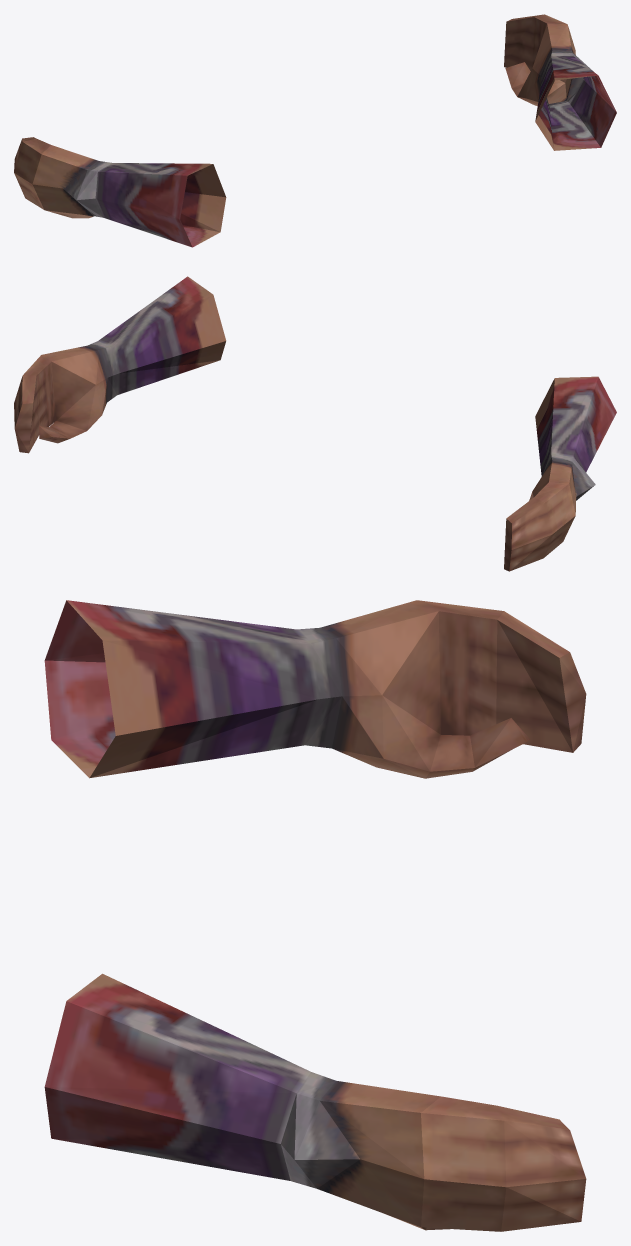
File: summoner_glove_male_92540.obj
3 renders of one model, top to bottom at view 1: azimuth 30°, elevation 25°; view 2: azimuth 150°, elevation 25°; view 3: azimuth 270°, elevation 25°, orthographic. The views are drawn at different scales.
Visible parts, largest first — view 1: summoner_glove_male_92540; view 2: summoner_glove_male_92540; view 3: summoner_glove_male_92540.
Boxes of the visible parts, bbox=[...] form: summoner_glove_male_92540: bbox=[14, 14, 616, 247]; summoner_glove_male_92540: bbox=[14, 276, 616, 571]; summoner_glove_male_92540: bbox=[44, 600, 586, 1231].
Size of the model in its own units: 44.32 by 7.94 by 19.12.
Materials: 1 (1 with a texture image).
